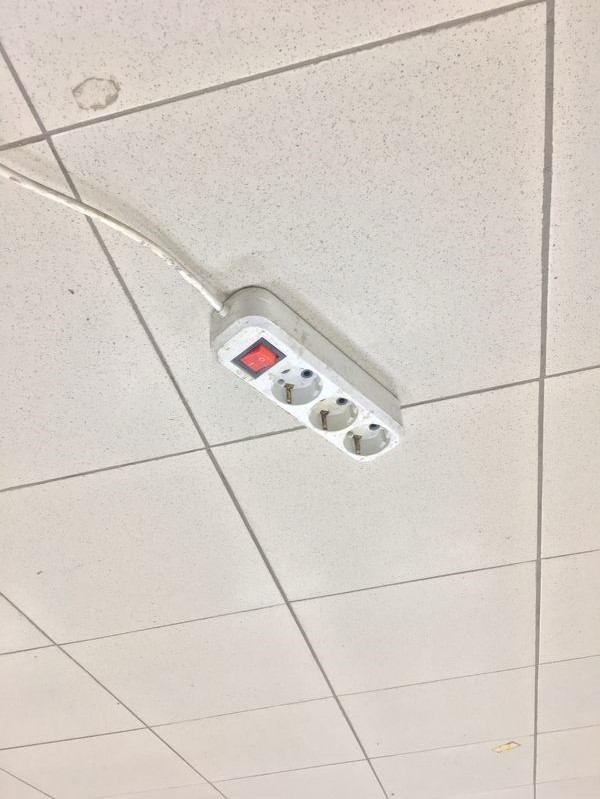socket: (195, 285, 413, 468)
